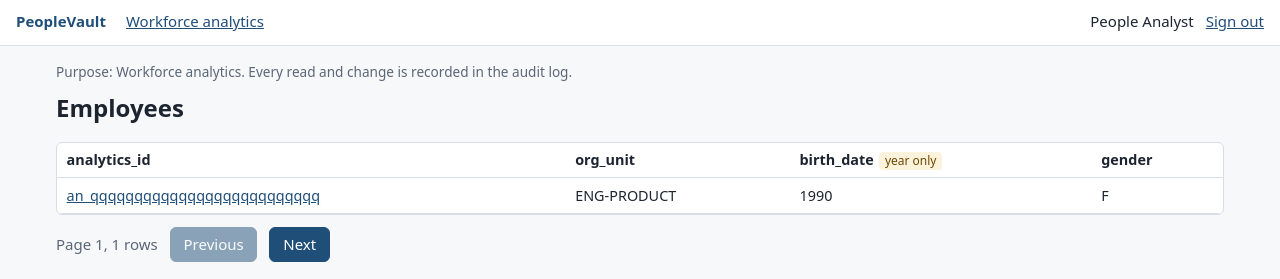
Test case: employee browser › labels masked columns, pages by cursor and links rows to profiles by pseudonymous ref
Expected: the text "ENG-PRODUCT" is shown, 566,178 -> 790,213
Expected: the column heading "birth_date year only" is shown, 790,143 -> 1092,178
Click the button "Next": point(300, 245) 270,227 -> 330,262
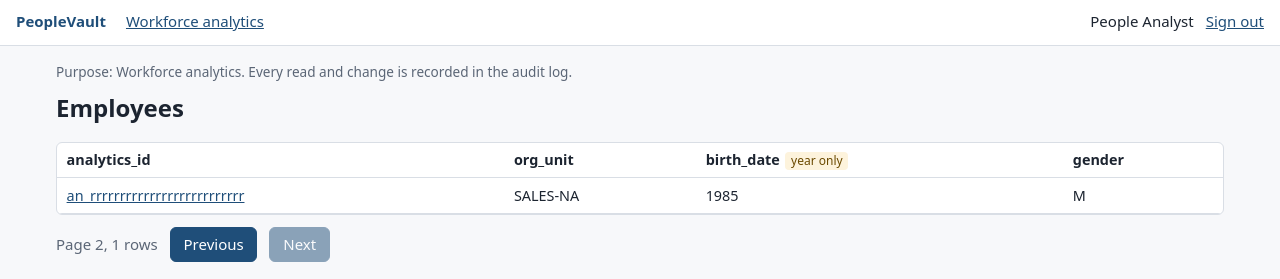
Expected: the text "SALES-NA" is shown, 504,178 -> 696,213
Click the 3rd link: point(156, 195) 67,186 -> 244,205
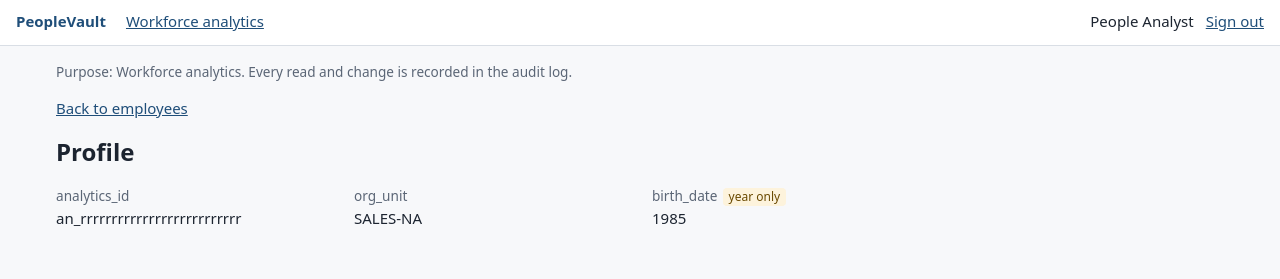
Expected: the text "1985" is shown, 652,208 -> 686,228
Expected: the heading "Profile" is shown, 56,135 -> 134,168
